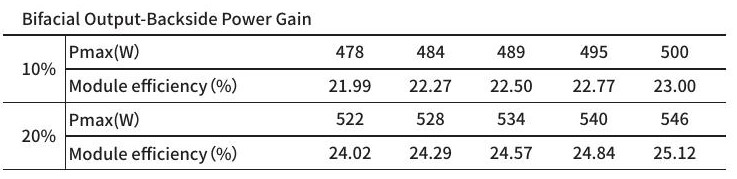table: (1, 29, 737, 178)
table column: (68, 31, 285, 172), (641, 35, 715, 173), (477, 36, 550, 174), (558, 37, 631, 173), (395, 35, 467, 172), (318, 34, 383, 171), (2, 32, 64, 173)
table row: (5, 71, 728, 100), (5, 139, 730, 167), (5, 39, 727, 67), (4, 106, 729, 132)
table spanning cell: (2, 104, 65, 169), (1, 38, 64, 101)
